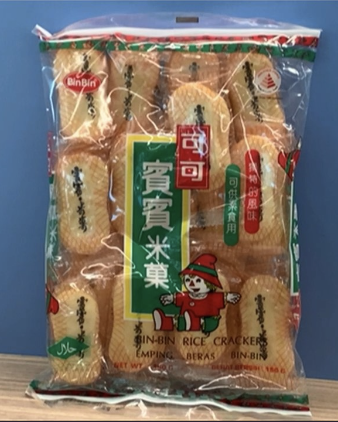crackers_100g-199g: (58, 51, 288, 377)
